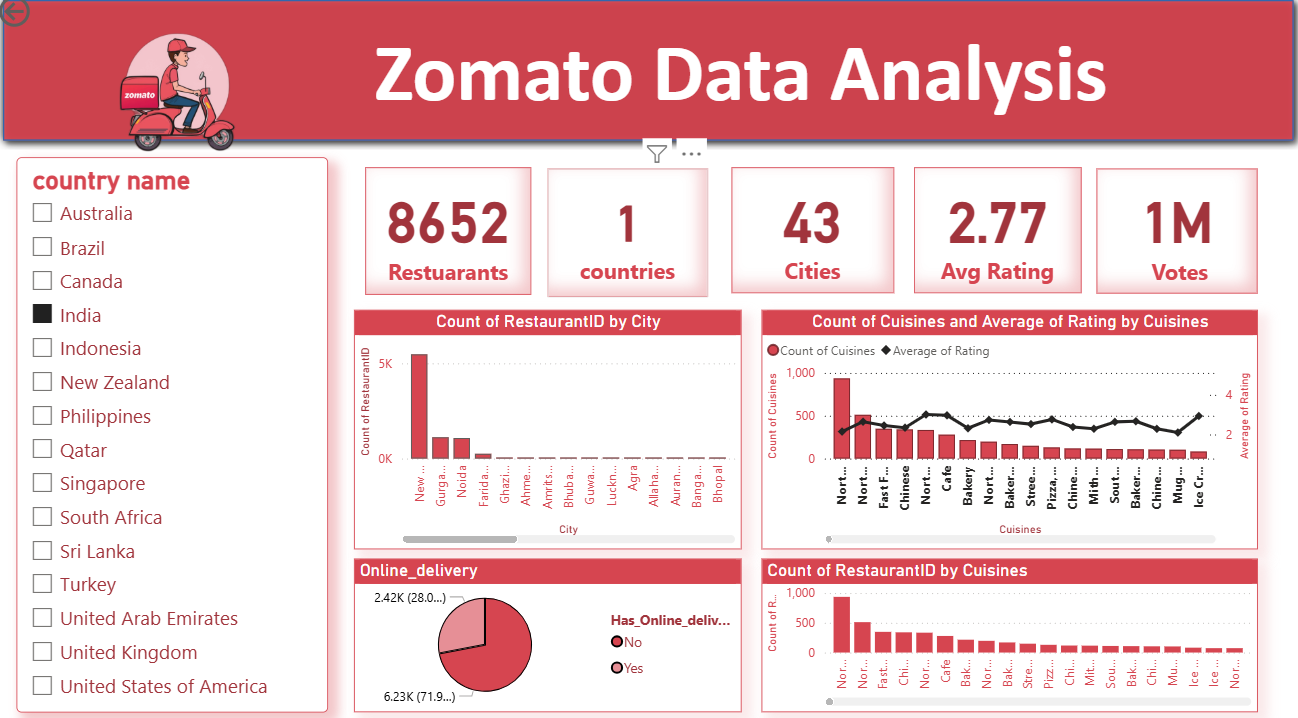

What the dashboard file says about the page in this screenshot:
{"tool":"powerbi","page":{"name":"Page 1","canvas":[1280,720],"ordinal":0},"visuals":[{"type":"shape","box":[0,0,1280.3,155.3],"z":0},{"type":"image","box":[31.8,0,284.9,188.3],"z":1000},{"type":"textbox","box":[225,25.7,1011.3,137],"z":2000},{"type":"card","fields":{"Values":["Count(restuarants.CountryCode)"]},"box":[541.7,173.6,156.5,126],"z":3000},{"type":"card","fields":{"Values":["CountNonNull(restuarants.City)"]},"box":[363.2,172.4,162.6,124.7],"z":4000},{"type":"card","fields":{"Values":["Count(restuarants.City)"]},"box":[721.5,172.4,159,123.5],"z":5000},{"type":"card","fields":{"Values":["Avg(restuarants.Rating)"]},"box":[900,172.4,163.9,123.5],"z":6000},{"type":"card","fields":{"Values":["Sum(restuarants.Votes)"]},"box":[1078.5,173.6,157.7,122.3],"z":7000},{"type":"slicer","fields":{"Values":["countries.country name"]},"box":[22,162.6,304.5,542.9],"z":8000},{"type":"lineStackedColumnComboChart","fields":{"Y":["CountNonNull(restuarants.Cuisines)"],"Category":["restuarants.Cuisines"],"Y2":["Avg(restuarants.Rating)"]},"box":[750.8,311.8,485.5,234.8],"z":9000},{"type":"clusteredColumnChart","fields":{"Category":["restuarants.City"],"Y":["CountNonNull(restuarants.RestaurantID)"]},"box":[352.2,311.8,379.1,234.8],"z":10000},{"type":"clusteredColumnChart","fields":{"Category":["restuarants.Cuisines"],"Y":["CountNonNull(restuarants.RestaurantID)"]},"box":[750.8,555.2,485.5,150.4],"z":11000},{"type":"pieChart","title":"Online_delivery","fields":{"Category":["restuarants.Has_Online_delivery"],"Y":["CountNonNull(restuarants.RestaurantID)"]},"box":[352.2,555.2,379.1,150.4],"z":12000},{"type":"actionButton","box":[0,0,100,40],"z":13000}]}

Visuals, with their boxes in screenshot pixels (x1, y1, x2, y2), scaled from the page's 1280x720 canvas onto the 1298x718 screenshot:
shape: 0:0:1297:155
image: 32:0:321:188
textbox: 228:26:1254:162
card - Count(restuarants.CountryCode): 549:173:708:299
card - CountNonNull(restuarants.City): 368:172:533:296
card - Count(restuarants.City): 732:172:893:295
card - Avg(restuarants.Rating): 913:172:1079:295
card - Sum(restuarants.Votes): 1094:173:1254:295
slicer - countries.country name: 22:162:331:704
lineStackedColumnComboChart - CountNonNull(restuarants.Cuisines) x restuarants.Cuisines: 761:311:1254:545
clusteredColumnChart - restuarants.City x CountNonNull(restuarants.RestaurantID): 357:311:742:545
clusteredColumnChart - restuarants.Cuisines x CountNonNull(restuarants.RestaurantID): 761:554:1254:704
"Online_delivery" pieChart: 357:554:742:704
actionButton: 0:0:101:40
